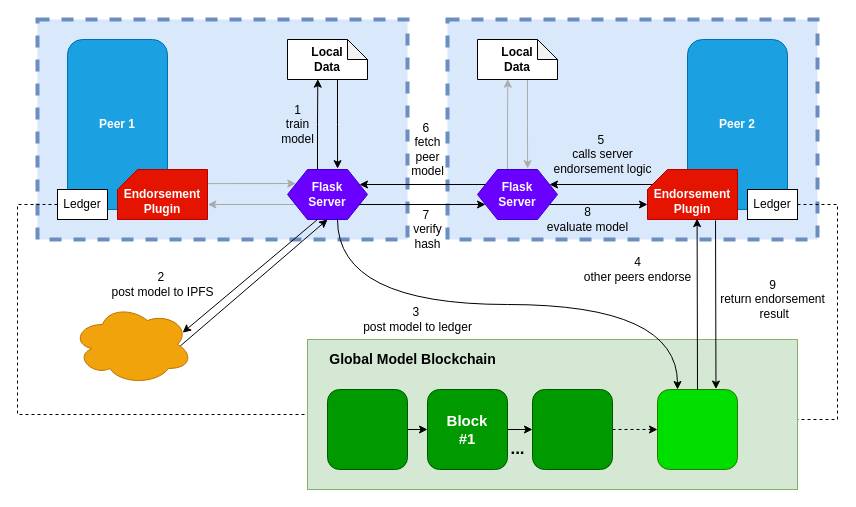
This 856x507 diagram has some shape labels left out. The shapes that lost their labels are listed below. From the top down, each one's centre as x and y in pixels, then its label:
the point at 132,344: IPFS
the point at 367,429: Genesis Block
the point at 572,429: Block #B
the point at 697,429: Block #B+1
